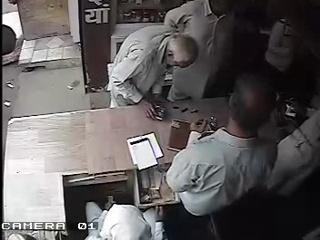Normal: (163, 72, 319, 239), (163, 0, 266, 103), (107, 23, 199, 112)
